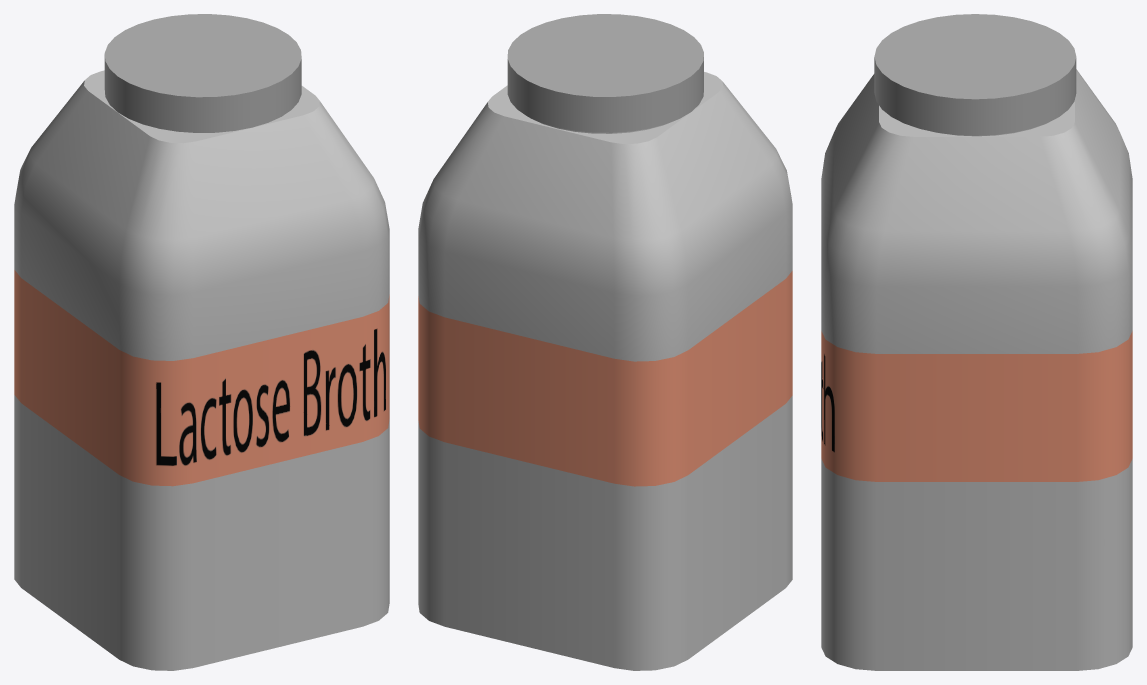
Rendered from lactose broth.fbx.
3 views of the same model, side by side, from view 1: azimuth 30°, elevation 25°; view 2: azimuth 150°, elevation 25°; view 3: azimuth 270°, elevation 25° (orthographic). The views are drawn at different scales.
Visible parts, largest first — view 1: Cube.031, Cylinder.023; view 2: Cube.031, Cylinder.023; view 3: Cube.031, Cylinder.023.
Boxes of the visible parts, bbox=[...] form: Cube.031: bbox=[14, 70, 389, 670]; Cylinder.023: bbox=[104, 14, 301, 132]; Cube.031: bbox=[418, 72, 792, 670]; Cylinder.023: bbox=[507, 14, 703, 132]; Cube.031: bbox=[821, 69, 1132, 670]; Cylinder.023: bbox=[874, 14, 1076, 135].
Size of the model in its own units: 6.8 by 13.23 by 6.8.
